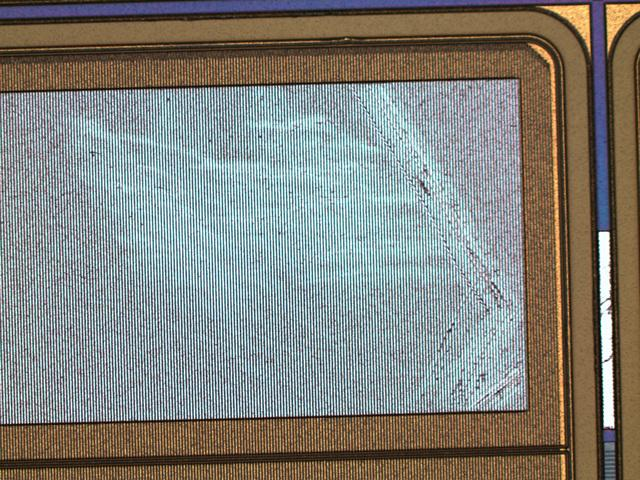SCRATCH: (61, 84, 528, 414)
